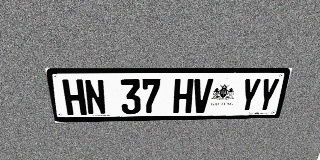3: (120, 79, 141, 114)
7: (141, 79, 161, 114)
H: (62, 79, 87, 115), (173, 79, 194, 113)
N: (83, 79, 107, 115)
V: (191, 79, 213, 113)
Y: (255, 78, 280, 112), (238, 78, 262, 112)
